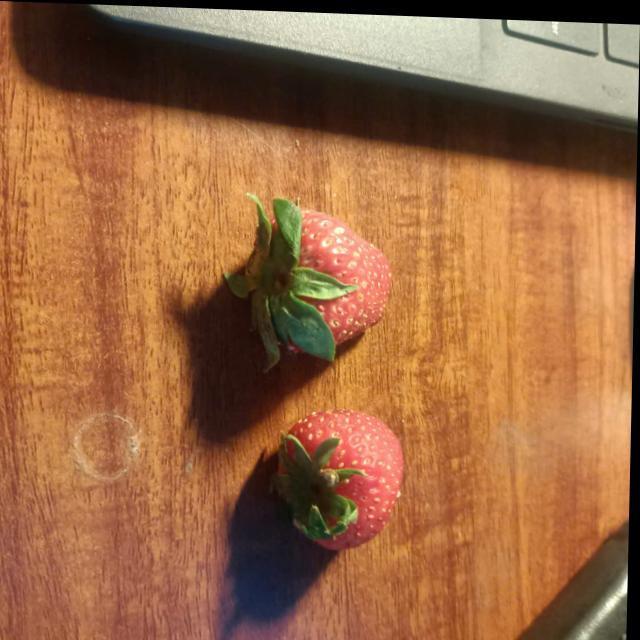DauTay: (223, 196, 400, 359), (269, 397, 416, 552)
